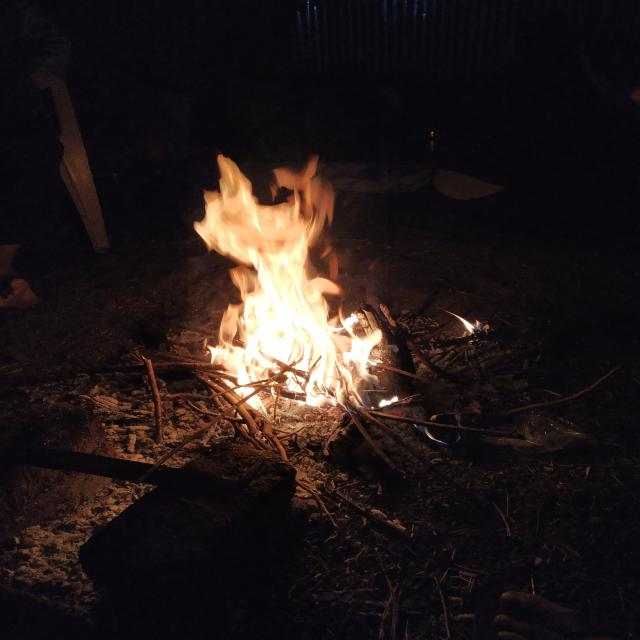Fire: (188, 162, 388, 416)
